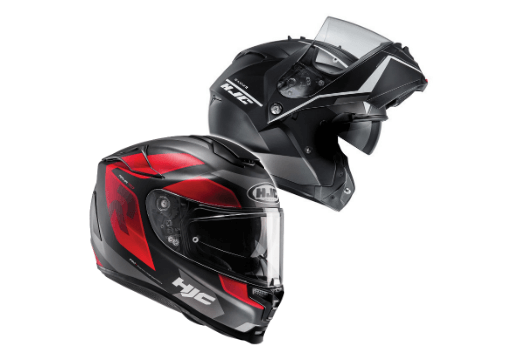with_helmet: (204, 11, 434, 213), (87, 132, 289, 345)
